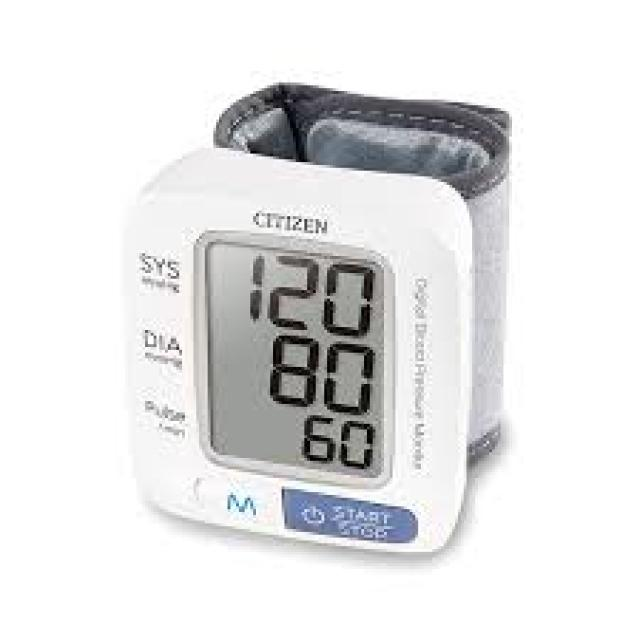dia: (256, 327, 389, 419)
pul: (279, 407, 387, 478)
ssd: (196, 239, 392, 479)
sys: (234, 245, 393, 343)
